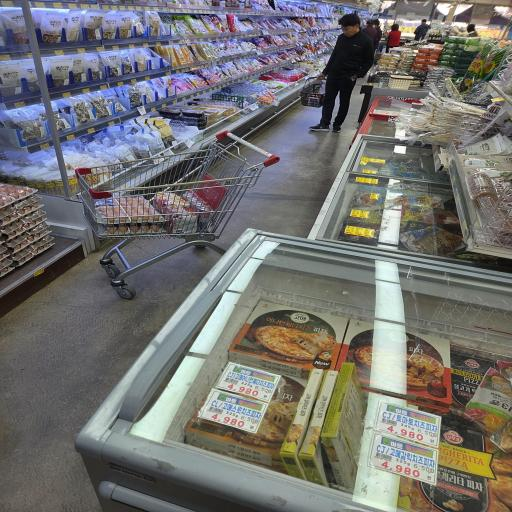fully_cart: (62, 123, 296, 303)
